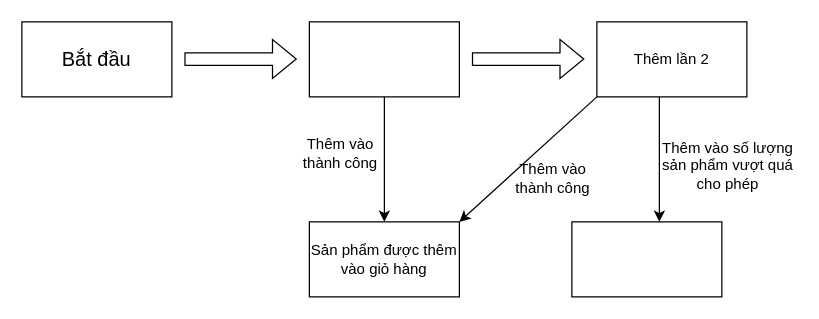
Some shapes in this 819 by 319 pixel diagram are drawn without their labels. Each missing label, with the box of its shape:
Thêm lần 1: (308, 21, 459, 97)
Thông báo số lượng sản phẩm đã vượt quá cho phép: (571, 221, 722, 297)
